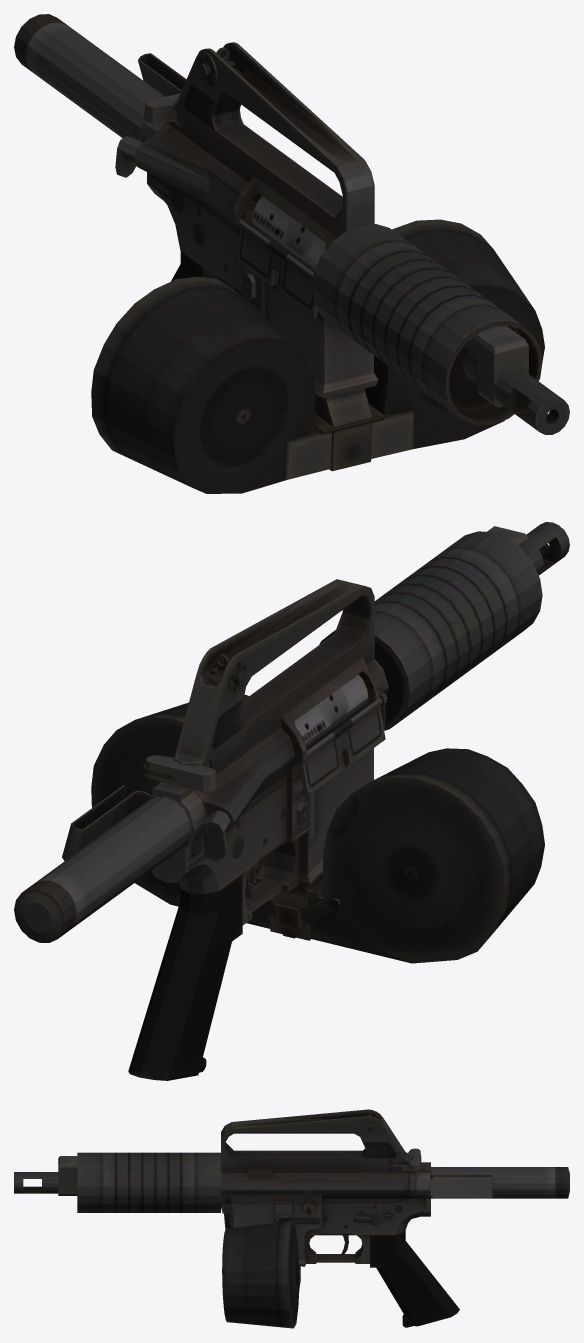
The model's file is Patriot.obj.
3 views of the same model, one above another, from view 1: azimuth 30°, elevation 25°; view 2: azimuth 150°, elevation 25°; view 3: azimuth 270°, elevation 25° (orthographic). The views are drawn at different scales.
Parts seen in each view (by area): view 1: mesh0, mesh1; view 2: mesh0, mesh1; view 3: mesh0, mesh1.
Part boxes in pixels (left/top/right/bottom): mesh0: left=14, top=14, right=569, bottom=434; mesh1: left=91, top=219, right=544, bottom=493; mesh0: left=14, top=522, right=569, bottom=1080; mesh1: left=91, top=695, right=544, bottom=963; mesh0: left=14, top=1109, right=569, bottom=1327; mesh1: left=222, top=1213, right=300, bottom=1328.
Size of the model in its own units: 2.36 by 2.13 by 5.08.
Materials: 2 (2 with a texture image).
